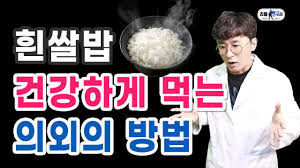ssalbab: (127, 26, 184, 66)
